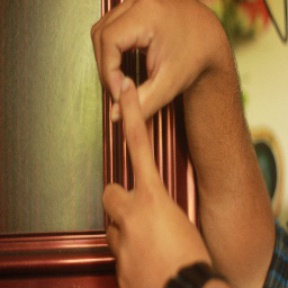Q: (86, 1, 218, 277)
